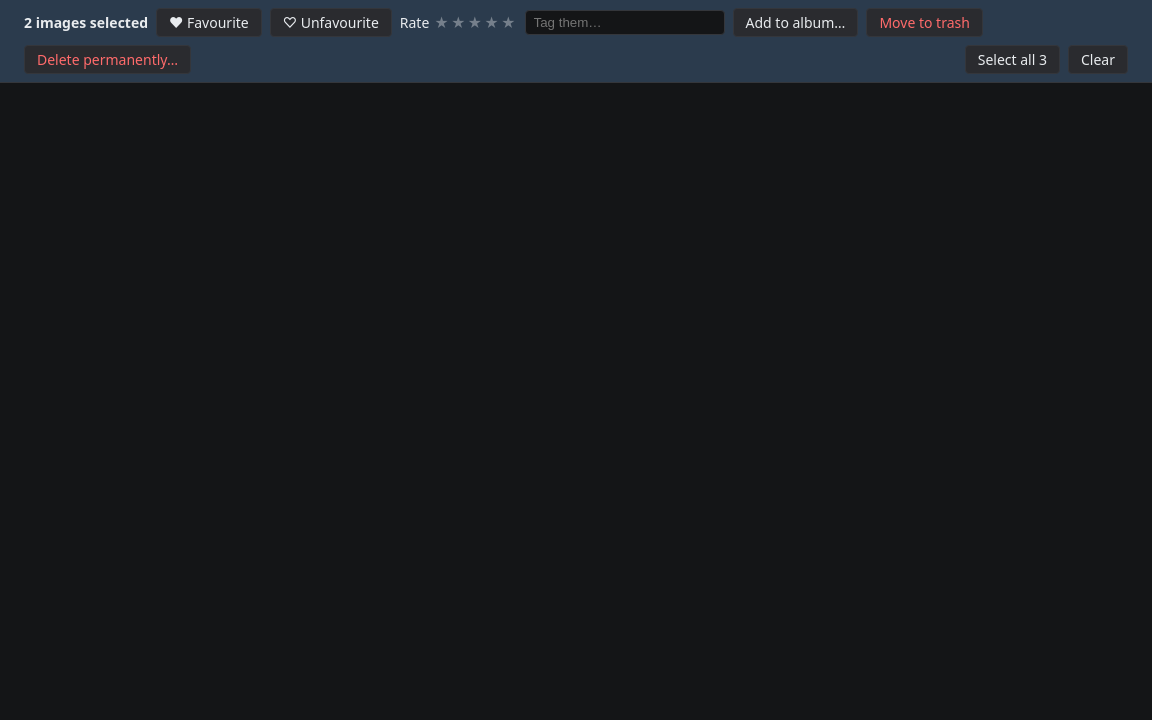
Test: BulkBar › moves the selection to the trash, clears it and lists what failed
Click the button "Move to trash".
click(925, 22)  # box [866,8,983,37]
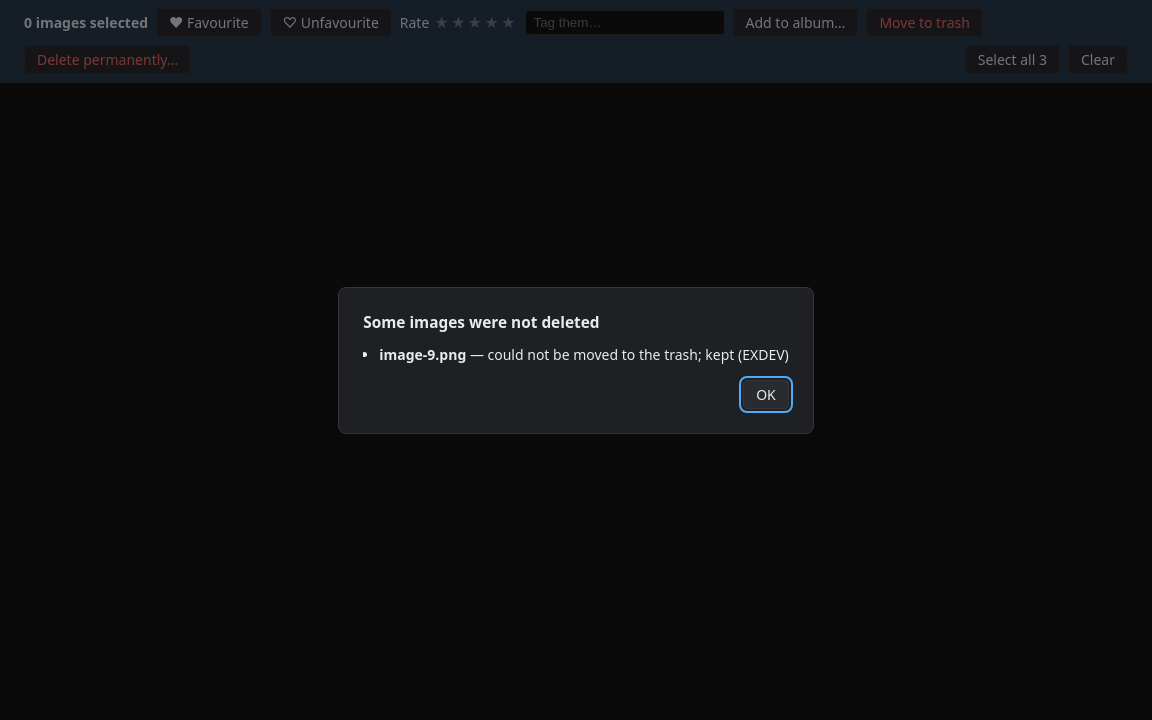
Now the dialog "Some images were not deleted" shows "image-9.png", box [379,344,466,364]
Now the dialog "Some images were not deleted" shows "could not be moved to the trash; kept (EXDEV)", box [466,344,789,364]
